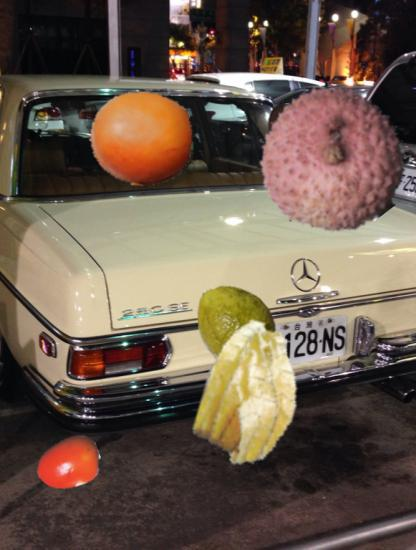Apricot: (89, 86, 195, 192)
Chestnut: (257, 103, 318, 164)
Guava: (191, 280, 277, 366)
Kaki: (36, 431, 102, 497)
Lychee: (258, 85, 408, 235)
Physalis: (176, 320, 324, 468)
